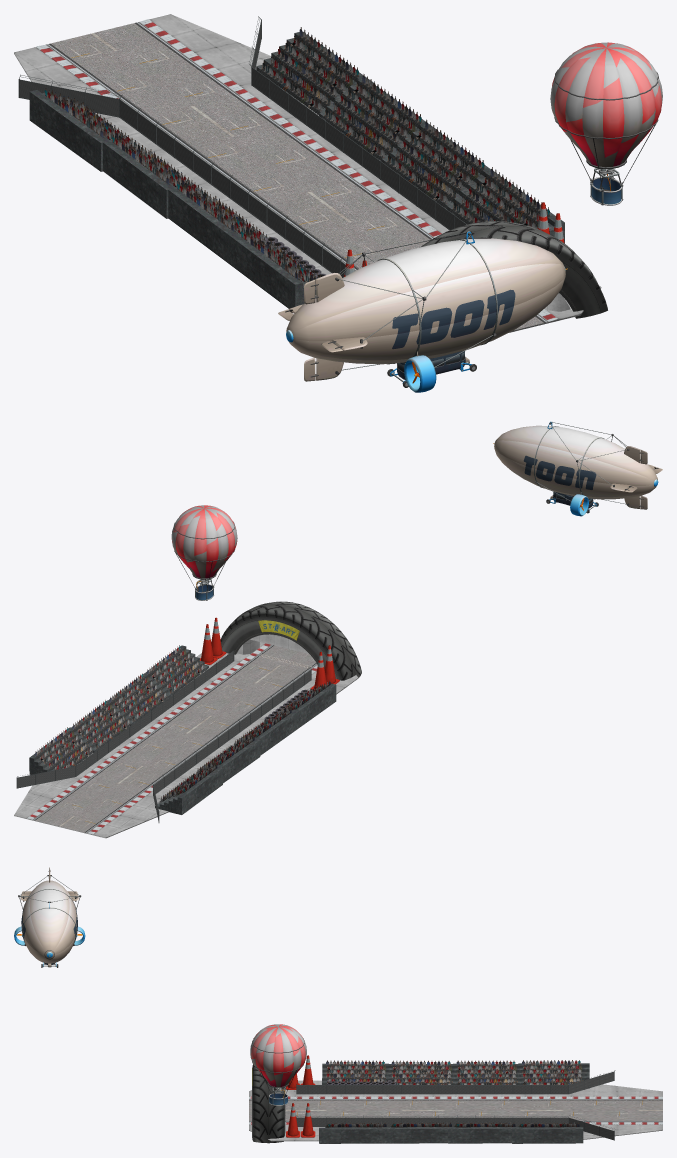
File: finish.fbx
3 renders of one model, top to bottom at view 1: azimuth 30°, elevation 25°; view 2: azimuth 150°, elevation 25°; view 3: azimuth 270°, elevation 25°, orthographic. The views are drawn at different scales.
Parts seen in each view (by area): view 1: khangia, blimp, Start_Road, balloon_3, Fence, finish, Start_Road_footpath, prop, Start_Position, tyres; view 2: khangia, Start_Road, blimp, finish, Fence, prop, balloon_3, Start_Road_footpath, Start_Position, stt_prop_race_start_line_03_Shape; view 3: khangia, Start_Road, Fence, blimp, balloon_3, finish, Start_Road_footpath, prop.
Part boxes in pixels (box(x1,y1,x2,y2)): khangia: box(29, 27, 564, 308); blimp: box(278, 231, 567, 392); Start_Road: box(50, 23, 543, 330); balloon_3: box(550, 42, 662, 205); Fence: box(18, 16, 466, 277); finish: box(14, 14, 601, 332); Start_Road_footpath: box(36, 19, 558, 322); prop: box(387, 221, 607, 364); Start_Position: box(71, 44, 396, 257); tyres: box(258, 237, 325, 279); khangia: box(29, 645, 336, 814); Start_Road: box(35, 645, 316, 832); blimp: box(493, 421, 662, 516); finish: box(14, 642, 358, 838); Fence: box(16, 649, 311, 822); prop: box(220, 601, 361, 680); balloon_3: box(171, 505, 237, 600); Start_Road_footpath: box(27, 643, 317, 834); Start_Position: box(61, 654, 311, 826); stt_prop_race_start_line_03_Shape: box(236, 634, 308, 654); khangia: box(319, 1060, 589, 1143); Start_Road: box(249, 1100, 662, 1120); Fence: box(296, 1070, 615, 1140); blimp: box(14, 867, 85, 967); balloon_3: box(250, 1024, 306, 1105); finish: box(249, 1080, 662, 1141); Start_Road_footpath: box(249, 1096, 662, 1124); prop: box(252, 1064, 285, 1143).
Size of the model in its own units: 8882 by 4423 by 16615.
